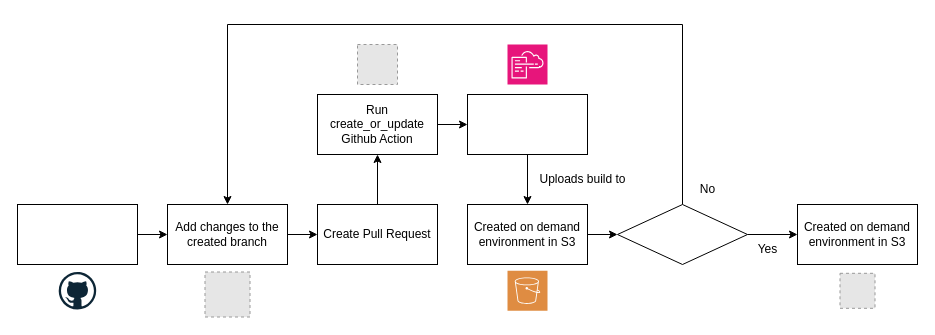
Image size: 935x335. Some labels were removed from this diagram. Grey dashed boxes stand in for pictures. The shapes that lost their labels are listed below. From the top down, each one's centre as x and y in pixels, then its label:
At (x=527, y=124): "Runs cloudformation template & creates cloud resources".
At (x=77, y=234): "Create branch from master".
At (x=682, y=234): "Ready to merge?".
